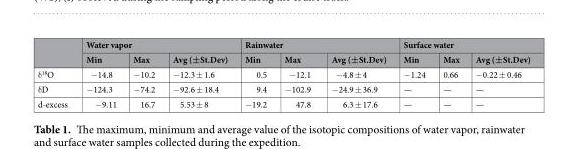table: (36, 37, 530, 109)
table column: (320, 37, 394, 109), (163, 37, 235, 109), (466, 37, 530, 109), (76, 37, 124, 109), (274, 37, 320, 109), (36, 37, 76, 109), (124, 37, 163, 109), (235, 37, 274, 109), (394, 37, 433, 109), (433, 37, 466, 109)
table column header: (36, 37, 530, 66)
table row: (36, 51, 530, 66), (36, 66, 530, 81), (36, 81, 530, 96), (36, 37, 530, 51), (36, 96, 530, 109)
table spanning cell: (76, 37, 235, 51), (235, 37, 394, 51), (394, 37, 530, 51)
